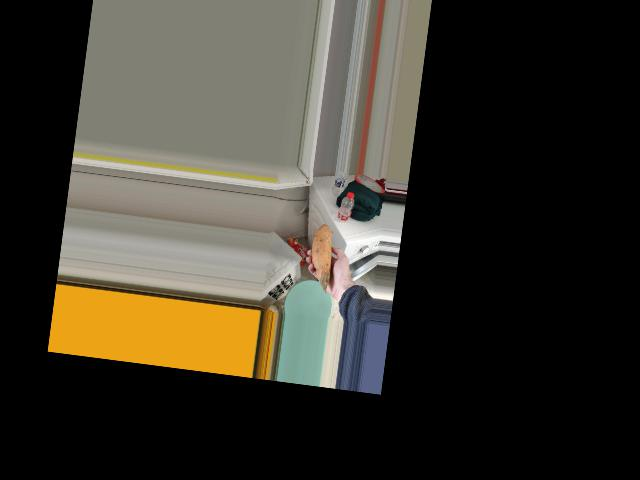sweet_potato: (307, 229, 337, 286)
